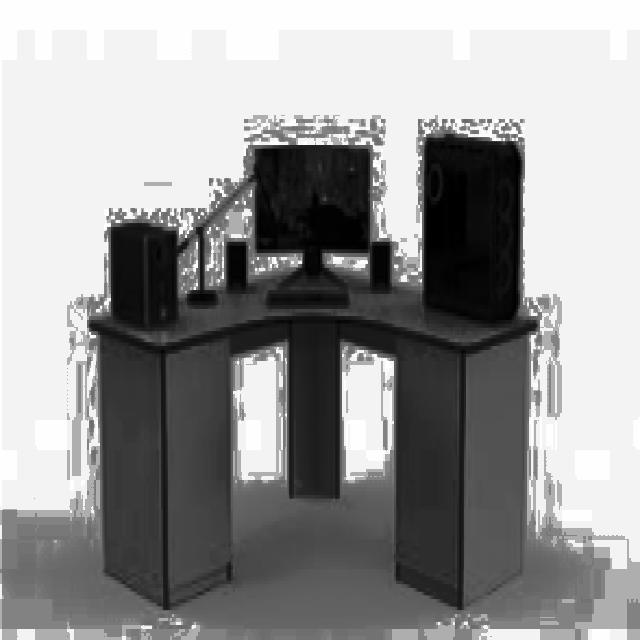table: (87, 260, 538, 610)
